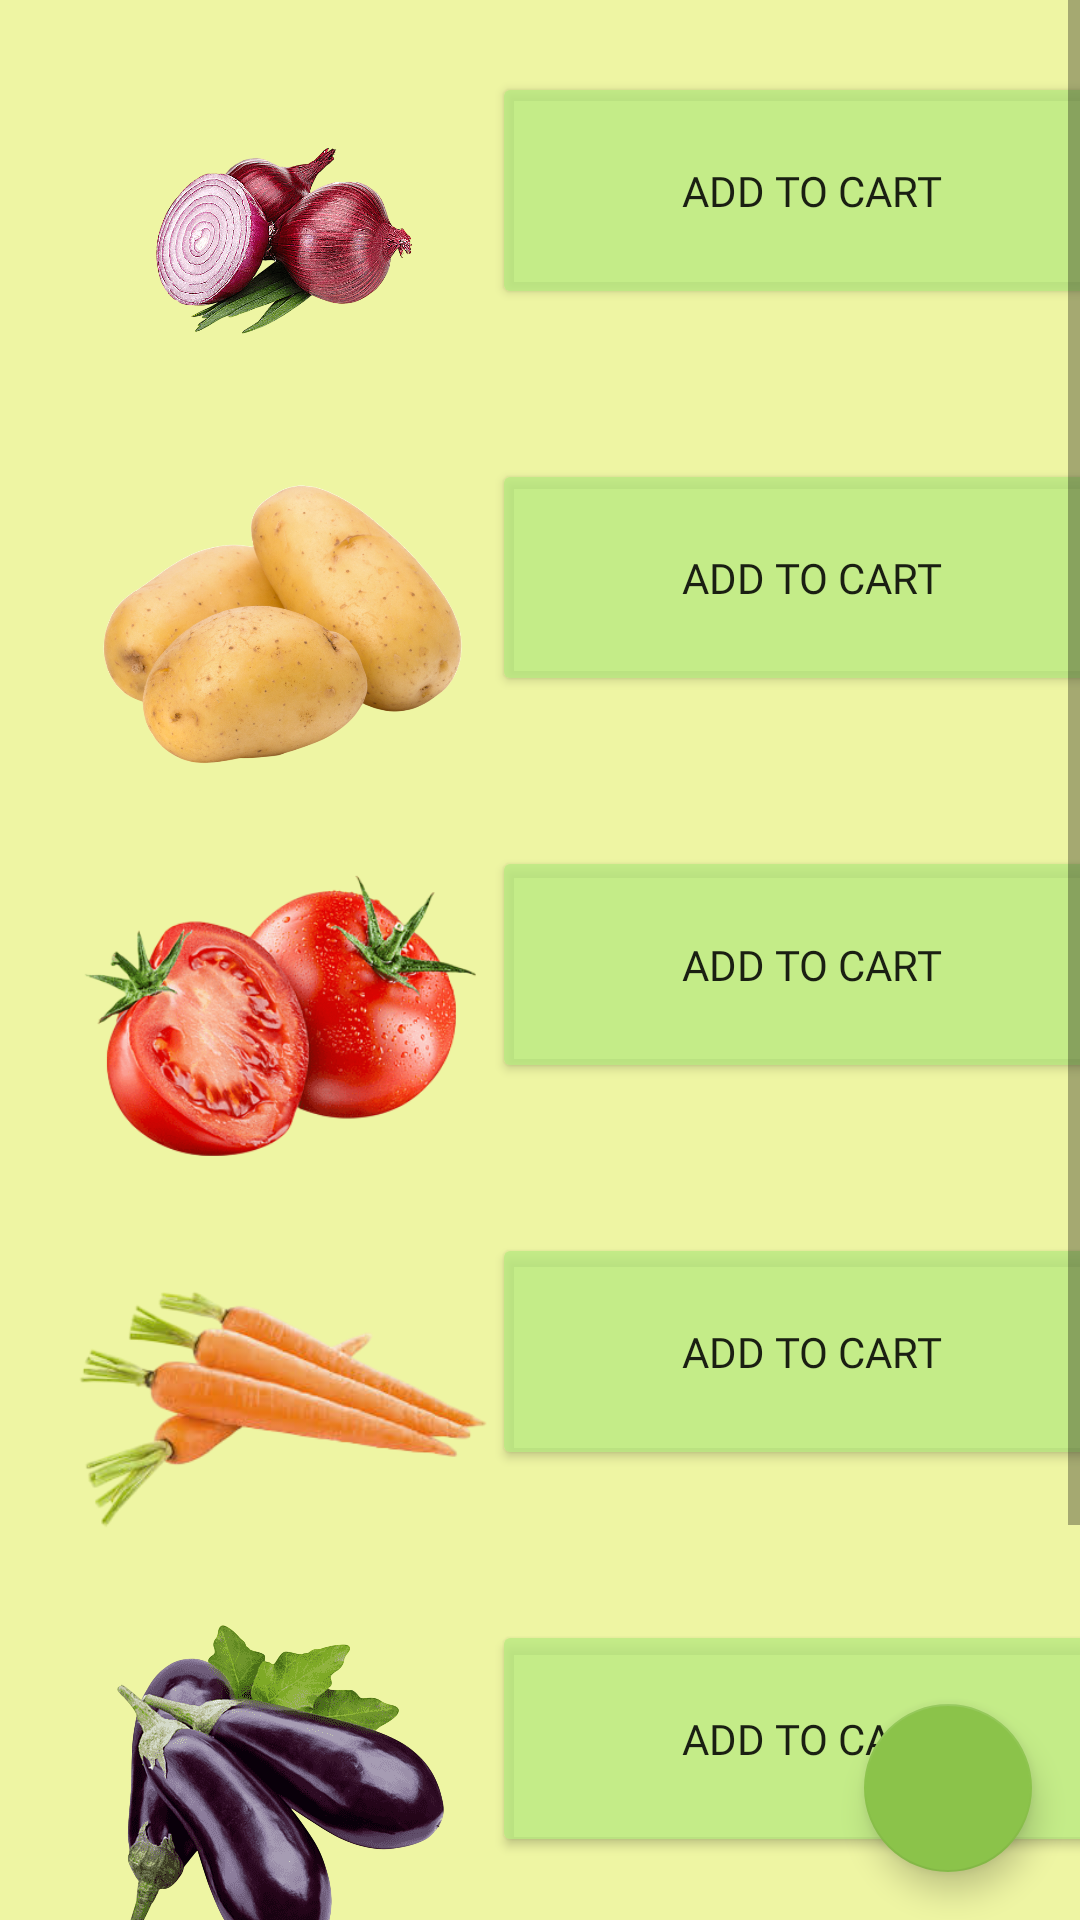

Icons on this 1080*1920 Android screen, each with the point to tap as point (x, y):
onion: point (284, 241)
potato: point (283, 624)
